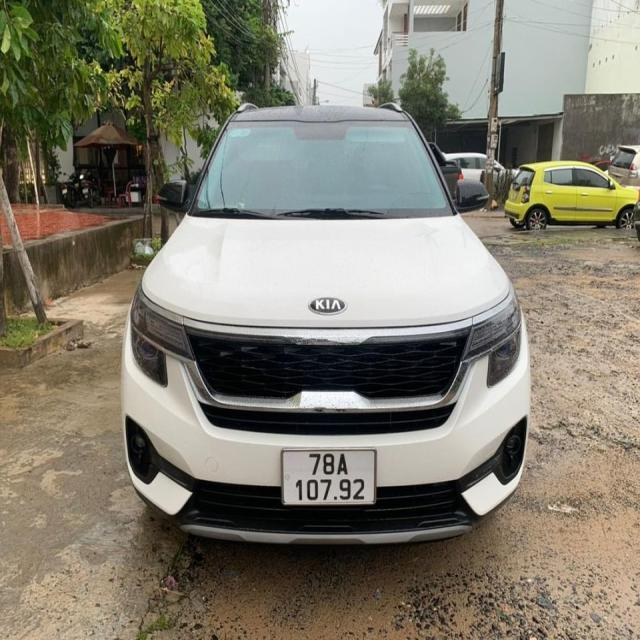car: (123, 102, 530, 553), (502, 155, 628, 235)
plate: (273, 441, 384, 511)
